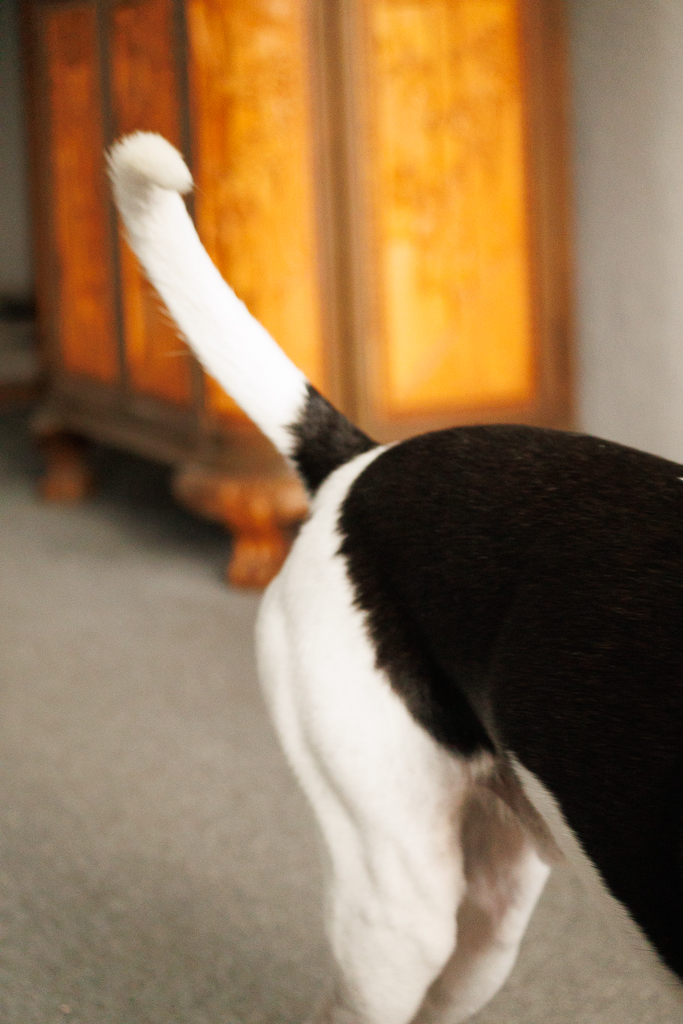Dog: (89, 109, 683, 1024)
